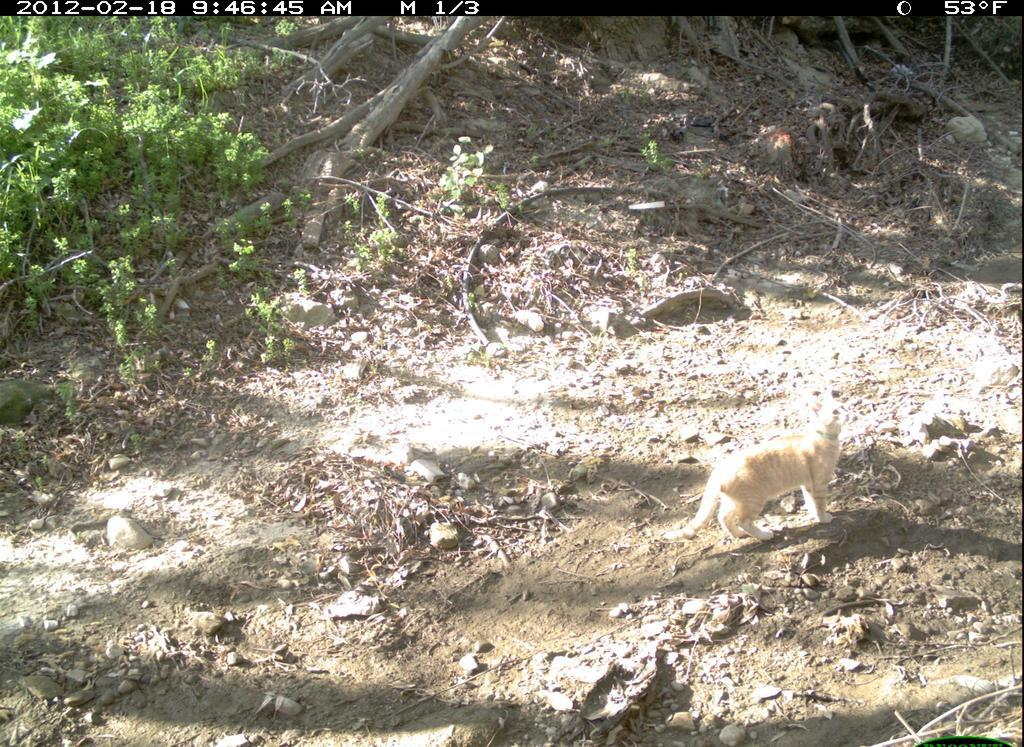cat: (655, 393, 849, 555)
